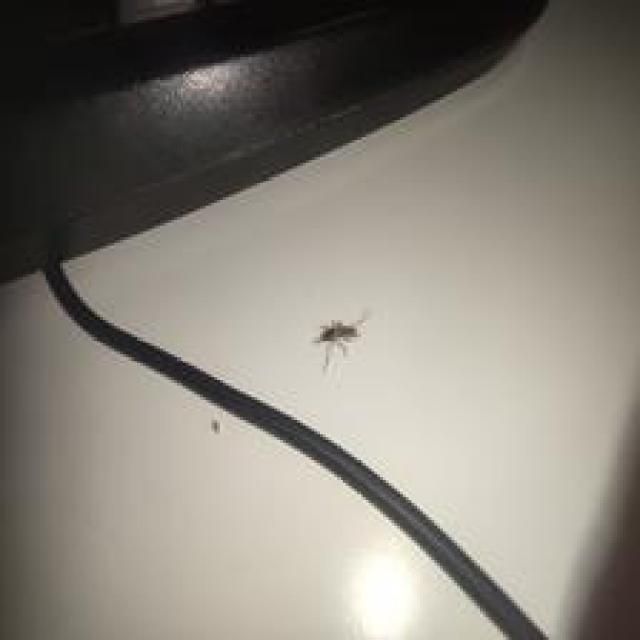Culex: (313, 314, 367, 372)
